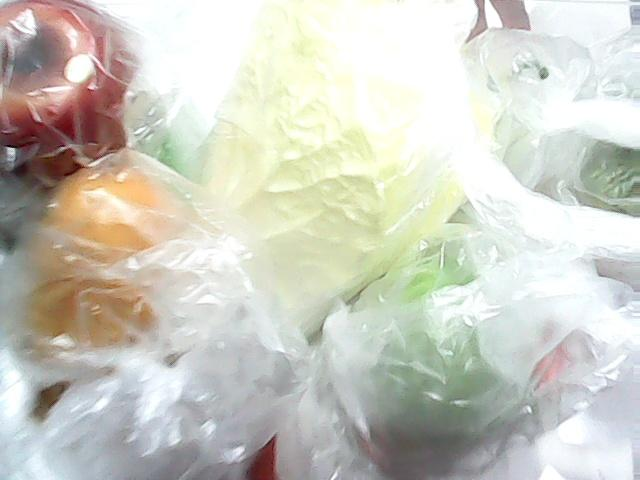apple: (0, 0, 136, 186)
cabbage: (470, 34, 640, 218)
carrot: (526, 311, 574, 393)
lemon: (28, 151, 215, 442)
napa cabbage: (116, 2, 448, 379)
peach: (237, 359, 382, 480)
